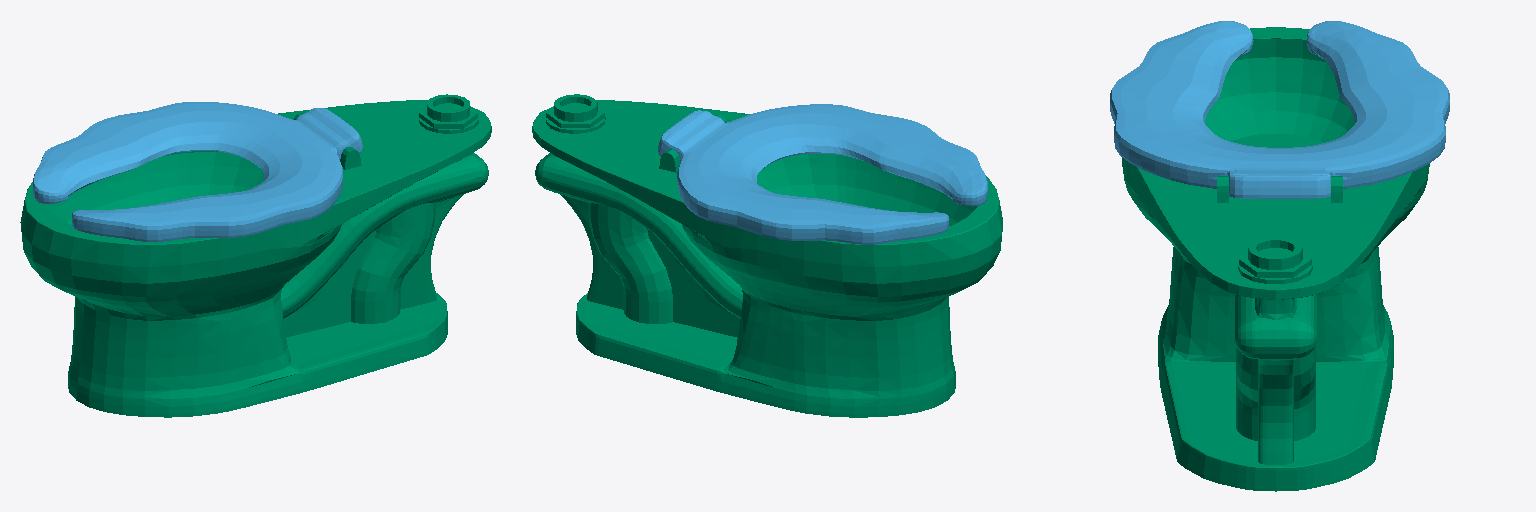
URDF robot description (partnet_465cabf0092263d734796e224897d8cd):
<robot name="partnet_465cabf0092263d734796e224897d8cd">
  <link name="base"/>
  <link name="link_0">
    <visual name="seat-2">
      <origin xyz="0 -0.2970268055809032 0.3415275576412386"/>
      <geometry>
        <mesh filename="textured_objs/original-2.obj"/>
      </geometry>
    </visual>
    <collision>
      <origin xyz="0 -0.2970268055809032 0.3415275576412386"/>
      <geometry>
        <mesh filename="textured_objs/original-2.obj"/>
      </geometry>
    </collision>
  </link>
  <joint name="joint_0" type="revolute">
    <origin xyz="0 0.2970268055809032 -0.3415275576412386"/>
    <axis xyz="-1 0 0"/>
    <child link="link_0"/>
    <parent link="link_1"/>
    <limit lower="-0.0" upper="1.6929693744344996" effort="100" velocity="1.0"/>
  </joint>
  <link name="link_1">
    <visual name="base_body-3">
      <origin xyz="0 0 0"/>
      <geometry>
        <mesh filename="textured_objs/original-4.obj"/>
      </geometry>
    </visual>
    <visual name="base_body-3">
      <origin xyz="0 0 0"/>
      <geometry>
        <mesh filename="textured_objs/original-3.obj"/>
      </geometry>
    </visual>
    <visual name="base_body-3">
      <origin xyz="0 0 0"/>
      <geometry>
        <mesh filename="textured_objs/original-8.obj"/>
      </geometry>
    </visual>
    <visual name="base_body-3">
      <origin xyz="0 0 0"/>
      <geometry>
        <mesh filename="textured_objs/original-9.obj"/>
      </geometry>
    </visual>
    <visual name="base_body-3">
      <origin xyz="0 0 0"/>
      <geometry>
        <mesh filename="textured_objs/original-5.obj"/>
      </geometry>
    </visual>
    <visual name="base_body-3">
      <origin xyz="0 0 0"/>
      <geometry>
        <mesh filename="textured_objs/original-6.obj"/>
      </geometry>
    </visual>
    <visual name="base_body-3">
      <origin xyz="0 0 0"/>
      <geometry>
        <mesh filename="textured_objs/original-7.obj"/>
      </geometry>
    </visual>
    <visual name="base_body-3">
      <origin xyz="0 0 0"/>
      <geometry>
        <mesh filename="textured_objs/original-1.obj"/>
      </geometry>
    </visual>
    <collision>
      <origin xyz="0 0 0"/>
      <geometry>
        <mesh filename="textured_objs/original-4.obj"/>
      </geometry>
    </collision>
    <collision>
      <origin xyz="0 0 0"/>
      <geometry>
        <mesh filename="textured_objs/original-3.obj"/>
      </geometry>
    </collision>
    <collision>
      <origin xyz="0 0 0"/>
      <geometry>
        <mesh filename="textured_objs/original-8.obj"/>
      </geometry>
    </collision>
    <collision>
      <origin xyz="0 0 0"/>
      <geometry>
        <mesh filename="textured_objs/original-9.obj"/>
      </geometry>
    </collision>
    <collision>
      <origin xyz="0 0 0"/>
      <geometry>
        <mesh filename="textured_objs/original-5.obj"/>
      </geometry>
    </collision>
    <collision>
      <origin xyz="0 0 0"/>
      <geometry>
        <mesh filename="textured_objs/original-6.obj"/>
      </geometry>
    </collision>
    <collision>
      <origin xyz="0 0 0"/>
      <geometry>
        <mesh filename="textured_objs/original-7.obj"/>
      </geometry>
    </collision>
    <collision>
      <origin xyz="0 0 0"/>
      <geometry>
        <mesh filename="textured_objs/original-1.obj"/>
      </geometry>
    </collision>
  </link>
  <joint name="joint_1" type="fixed">
    <origin rpy="1.570796326794897 0 -1.570796326794897" xyz="0 0 0"/>
    <child link="link_1"/>
    <parent link="base"/>
  </joint>
</robot>

--- Render facts (derived) ---
The picture shows the robot from 3 angles, left to right: view 1: azimuth 30°, elevation 25°; view 2: azimuth 150°, elevation 25°; view 3: azimuth 270°, elevation 25°; orthographic projection.
Model partnet_465cabf0092263d734796e224897d8cd with 3 links and 2 joints (1 revolute, 1 fixed), rooted at base, posed all joints at 0.
Links seen in each view (by area): view 1: link_1, link_0; view 2: link_1, link_0; view 3: link_1, link_0.
Boxes of the visible links, left/top/right/bottom form: link_1: left=20, top=94, right=491, bottom=417; link_0: left=33, top=102, right=362, bottom=241; link_1: left=532, top=94, right=1002, bottom=417; link_0: left=658, top=104, right=987, bottom=244; link_1: left=1122, top=27, right=1429, bottom=491; link_0: left=1110, top=21, right=1449, bottom=198.
Bounding box of the posed robot: 1.89 × 1.02 × 0.8558 m (x, y, z).
Meshes: 9 distinct files referenced, 9 mesh visuals loaded (9 OBJ).